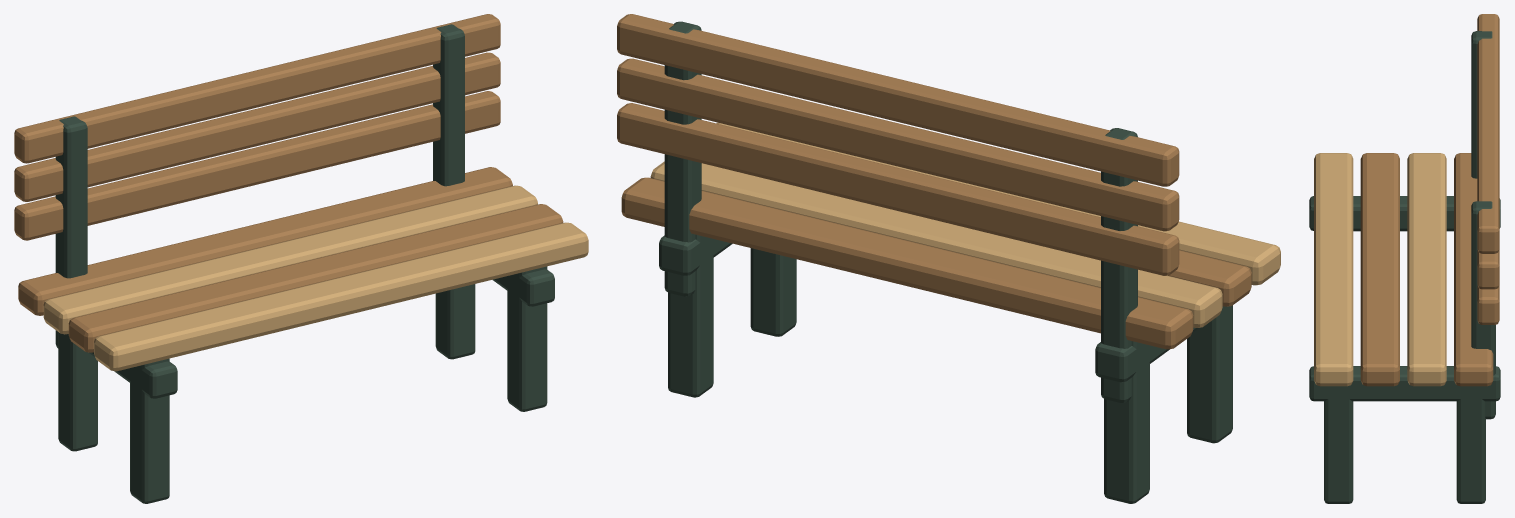
The model's file is garden-bench.glb.
3 renders of one model, left to right at view 1: azimuth 30°, elevation 25°; view 2: azimuth 150°, elevation 25°; view 3: azimuth 270°, elevation 25°, orthographic. The views are drawn at different scales.
Visible parts, largest first — view 1: garden-bench-runtime; view 2: garden-bench-runtime; view 3: garden-bench-runtime.
Boxes of the visible parts, x1,y1,x2,y2 form: garden-bench-runtime: (14, 14, 588, 503); garden-bench-runtime: (617, 14, 1280, 503); garden-bench-runtime: (1309, 14, 1500, 503).
Bounding box in the file's own units: 2.08 × 1.33 × 0.78.
